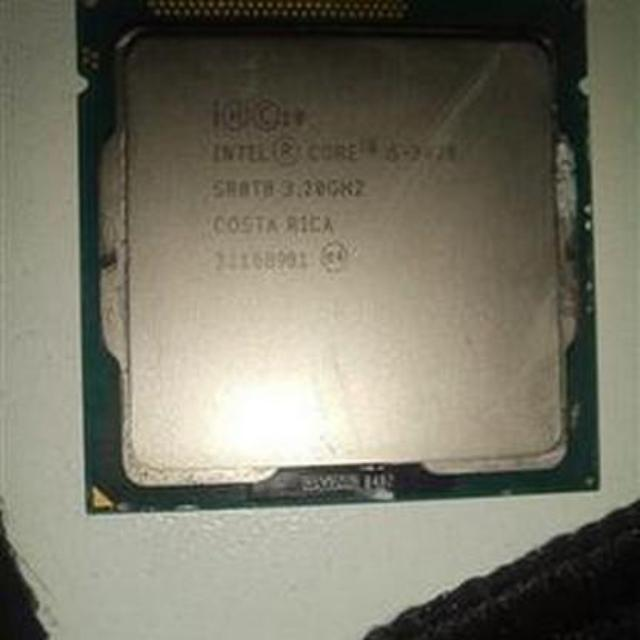CPU: (79, 0, 596, 494)
